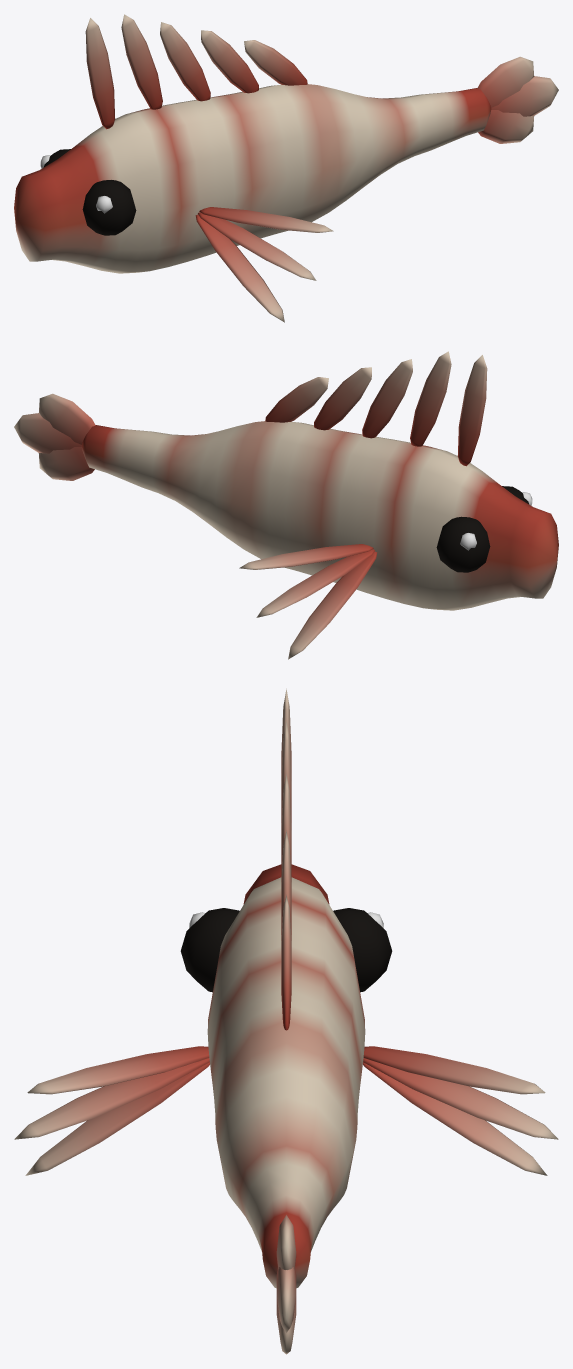
Rendered from Lionfish.glb.
3 views of the same model, one above another, from view 1: azimuth 30°, elevation 25°; view 2: azimuth 150°, elevation 25°; view 3: azimuth 270°, elevation 25° (orthographic). The views are drawn at different scales.
Visible parts, largest first — view 1: Lionfish; view 2: Lionfish; view 3: Lionfish.
Part boxes in pixels (bbox=[...]): Lionfish: bbox=[14, 14, 558, 322]; Lionfish: bbox=[14, 351, 558, 659]; Lionfish: bbox=[14, 688, 558, 1354].
Size of the model in its own units: 1.05 by 0.4965 by 0.6018.
